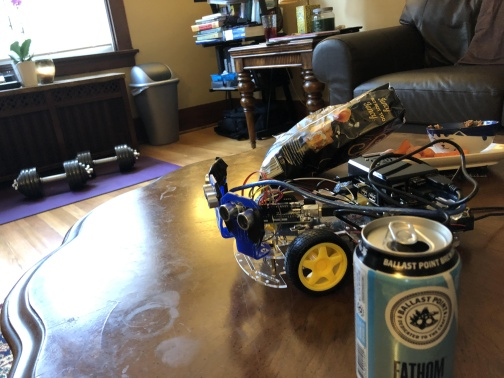can: (350, 213, 461, 378)
